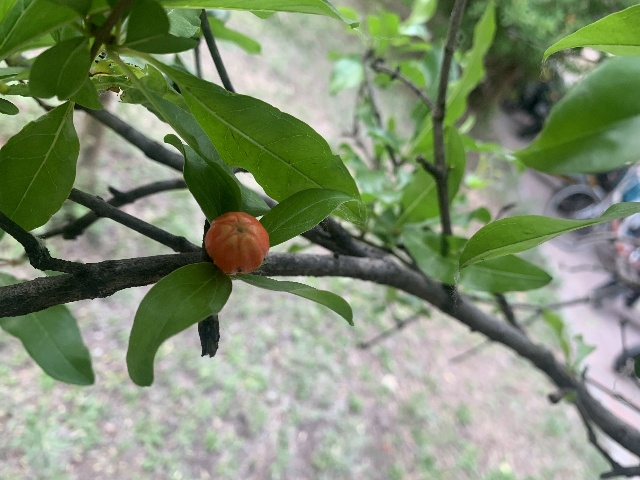bud: (204, 211, 269, 275)
